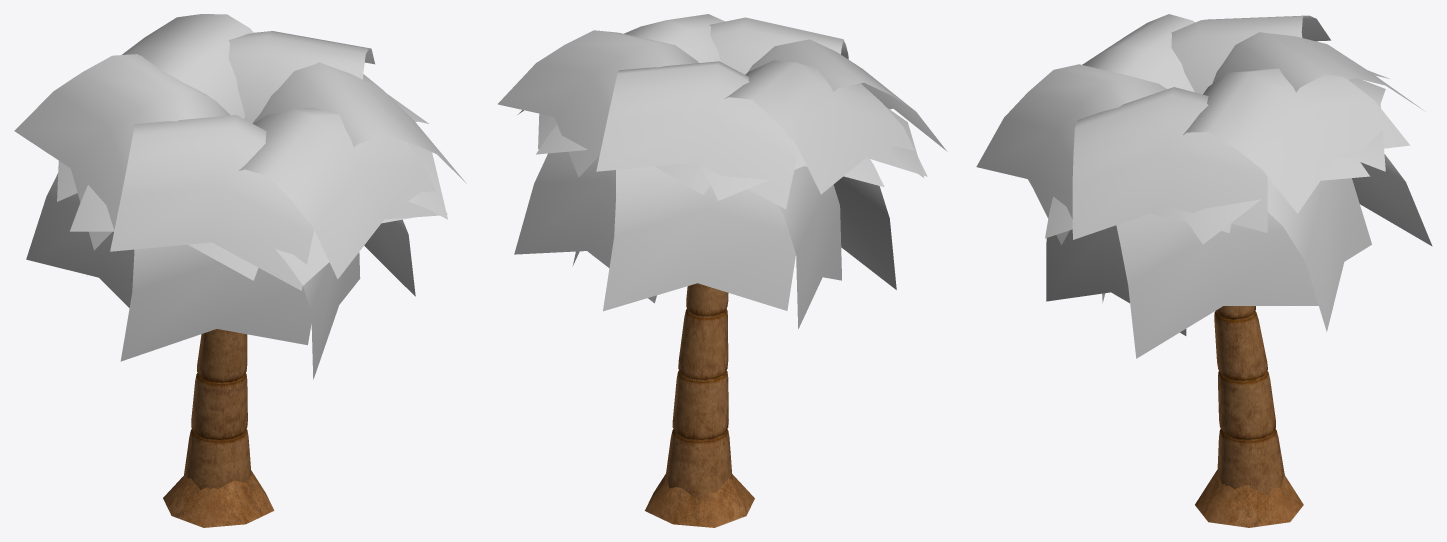
The model's file is Coconut_Tree_Blue.fbx.
3 renders of one model, left to right at view 1: azimuth 30°, elevation 25°; view 2: azimuth 150°, elevation 25°; view 3: azimuth 270°, elevation 25°, orthographic.
Parts seen in each view (by area): view 1: Leaf_Top, Leaf_Bottom, Coconut_Main1, Leaf_Middle, Coconut_Base; view 2: Leaf_Top, Leaf_Bottom, Coconut_Main1, Leaf_Middle, Coconut_Base; view 3: Leaf_Top, Leaf_Bottom, Coconut_Main1, Leaf_Middle, Coconut_Base.
Boxes of the visible parts, box(x1,y1,x2,y2) form: Leaf_Top: box(14, 14, 466, 290); Leaf_Bottom: box(26, 173, 415, 379); Coconut_Main1: box(183, 329, 251, 489); Leaf_Middle: box(57, 94, 447, 285); Coconut_Base: box(163, 470, 274, 527); Leaf_Top: box(498, 14, 947, 209); Leaf_Bottom: box(514, 151, 896, 328); Coconut_Main1: box(664, 283, 732, 500); Leaf_Middle: box(536, 106, 923, 200); Coconut_Base: box(645, 474, 754, 527); Leaf_Top: box(976, 14, 1425, 244); Leaf_Bottom: box(1046, 154, 1432, 358); Coconut_Main1: box(1214, 306, 1284, 495); Leaf_Middle: box(1027, 70, 1389, 244); Coconut_Base: box(1195, 469, 1303, 527).
Size of the model in its own units: 11.1 by 12.89 by 11.63.
